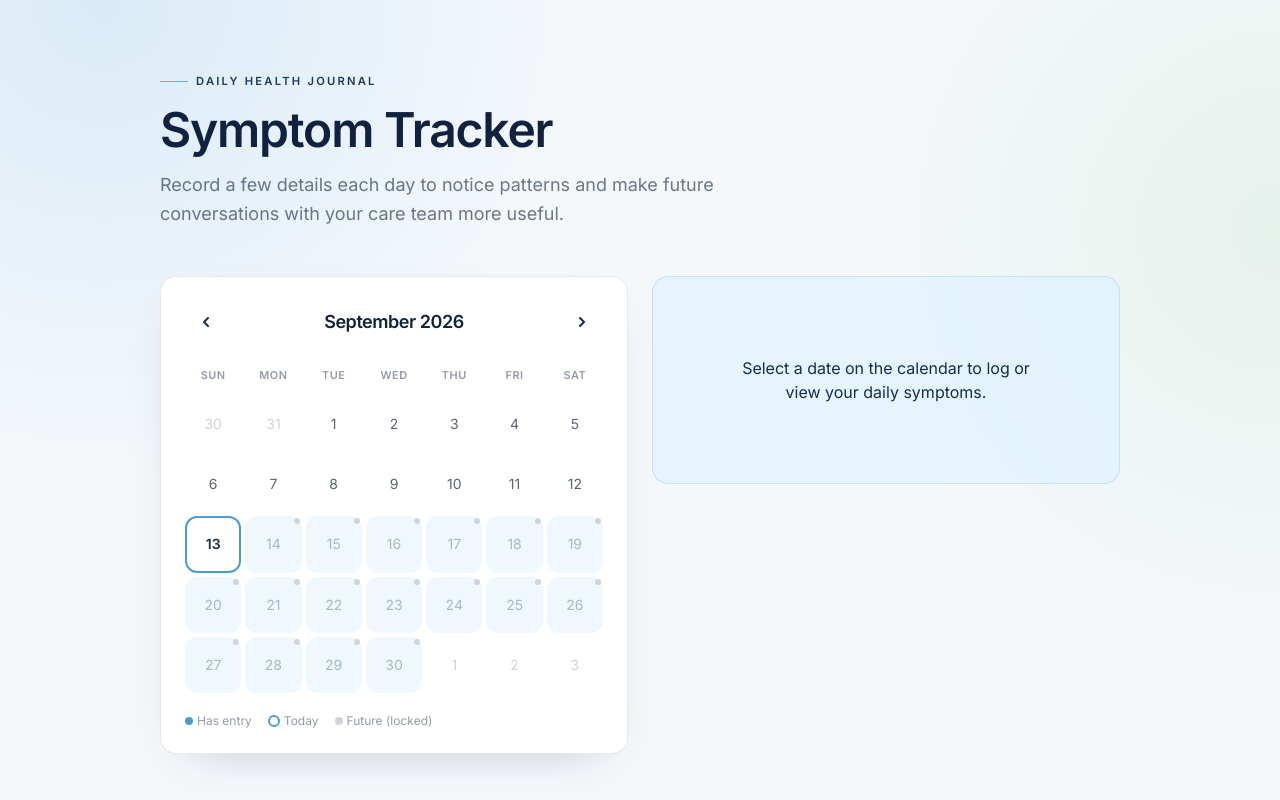
SymptomTrackerPage › populates form with existing entry data for selected date
The image size is (1280, 800).
Click the cell "13" at (213, 544), box [185, 516, 241, 573]
(page scrolled)
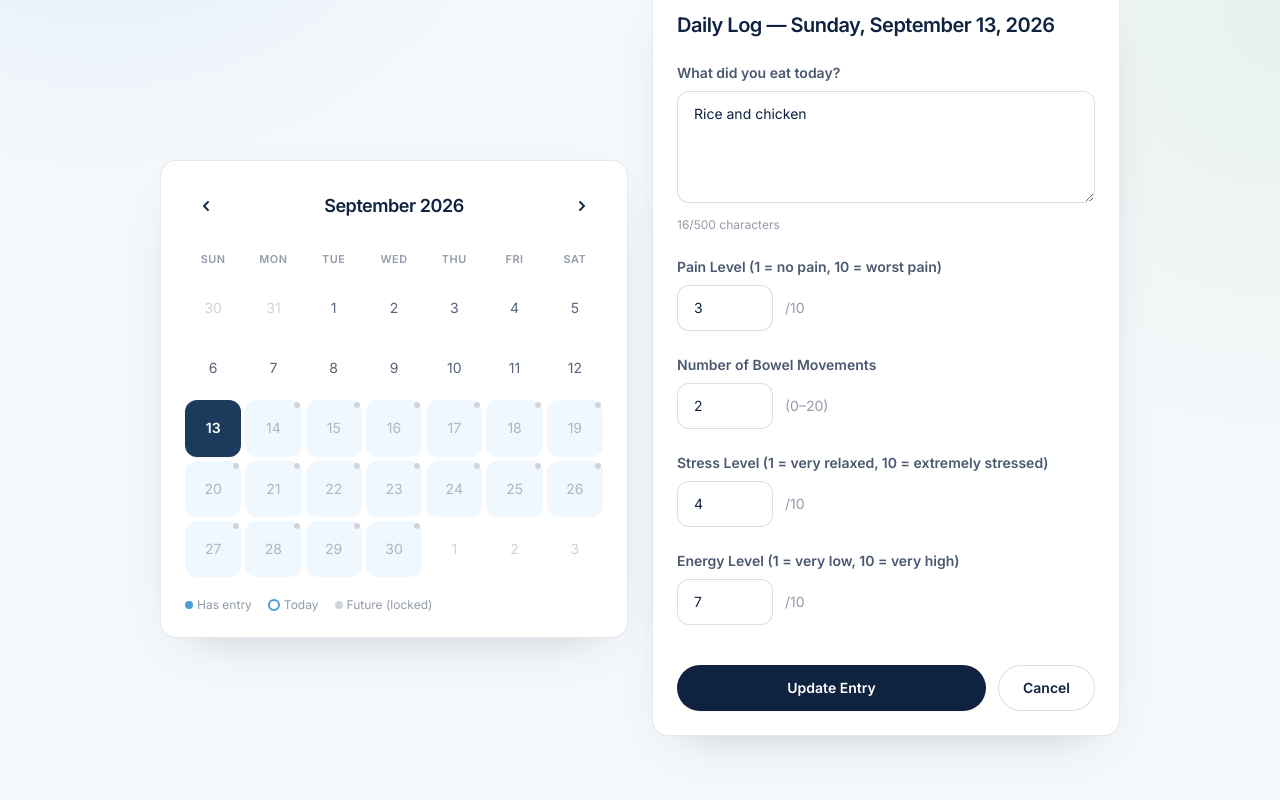
Result: the button "Update Entry" is shown at [677, 665, 986, 711]
